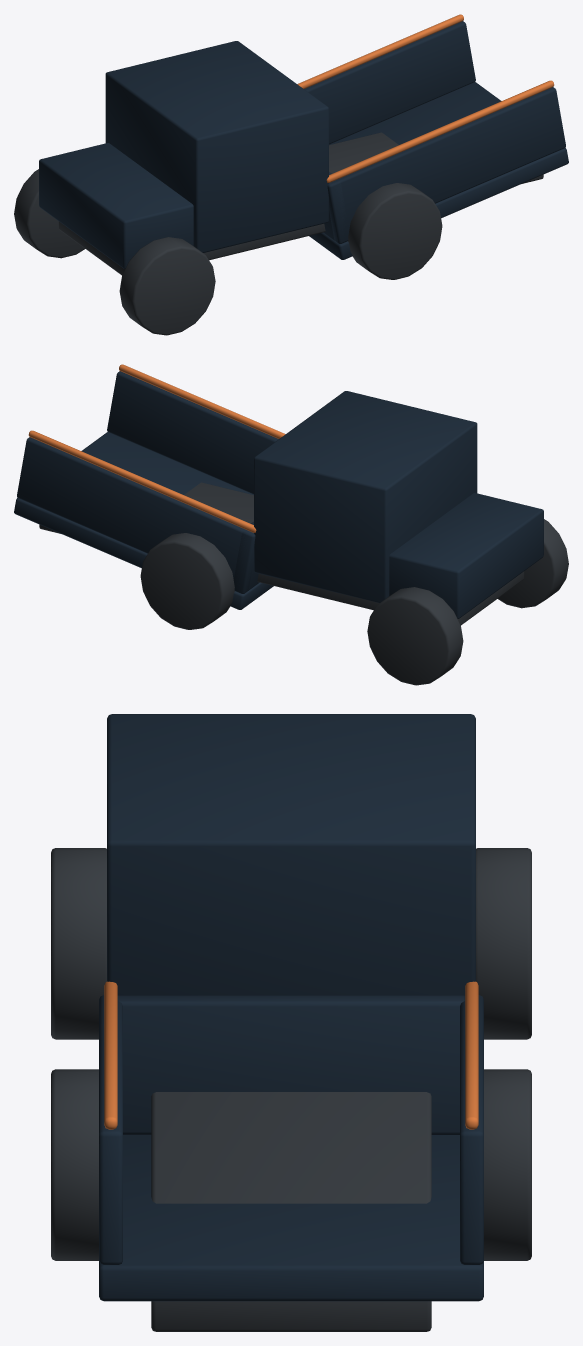
File: truck_v2.glb
3 renders of one model, top to bottom at view 1: azimuth 30°, elevation 25°; view 2: azimuth 150°, elevation 25°; view 3: azimuth 270°, elevation 25°, orthographic. The views are drawn at different scales.
Visible parts, largest first — view 1: HerosTruckMark; view 2: HerosTruckMark; view 3: HerosTruckMark.
Part boxes in pixels (x1,y1,x2,y2): HerosTruckMark: [14, 14, 568, 335]; HerosTruckMark: [14, 364, 568, 685]; HerosTruckMark: [51, 714, 531, 1331].
Size of the model in its own units: 2.67 by 1 by 1.24.
